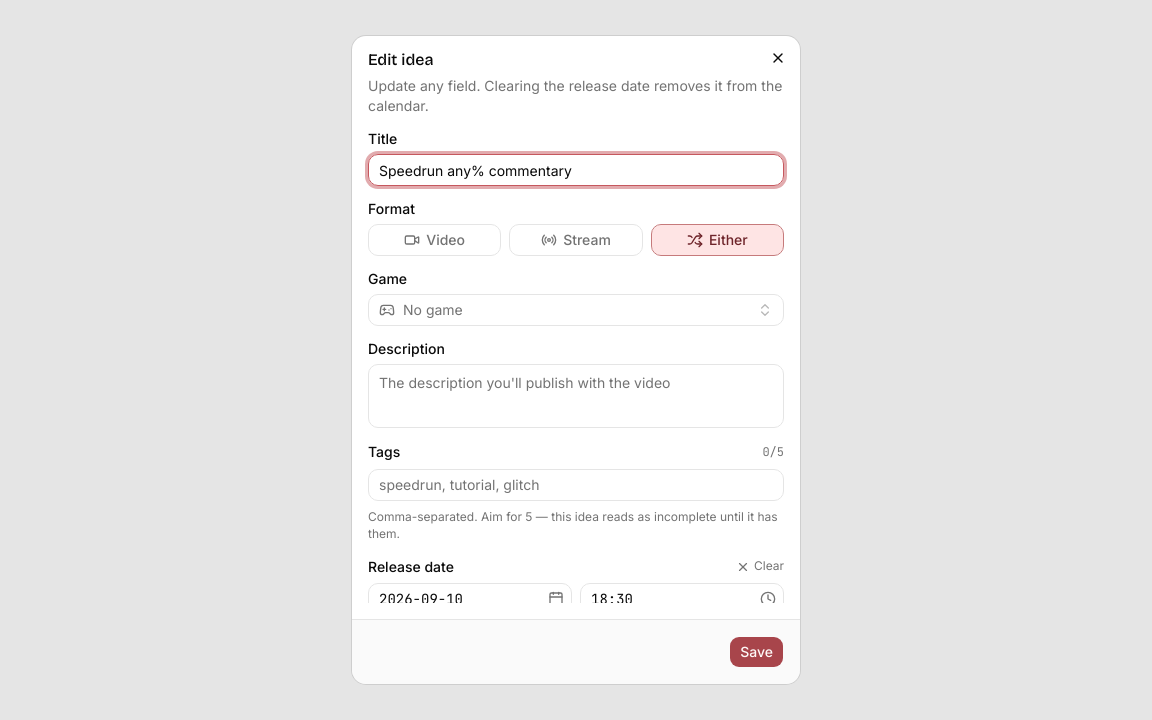
Test: IdeaEditor — edit mode › clears the release date and disables the time when Clear is used
This screenshot has width=1152, height=720.
Click the button "Clear".
click(760, 567)  # box [736, 558, 784, 575]
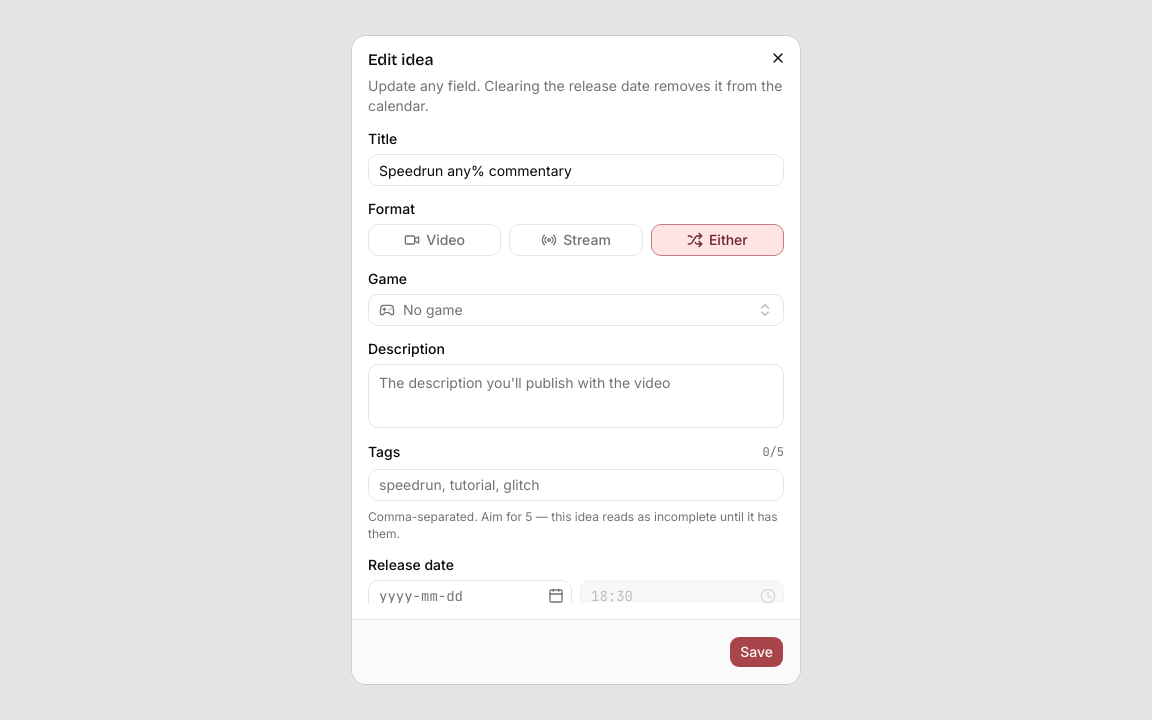
Result: the field labelled "Release date" is empty at [369, 580, 544, 603]
Result: the field named "Release time" is disabled at [581, 580, 756, 603]
